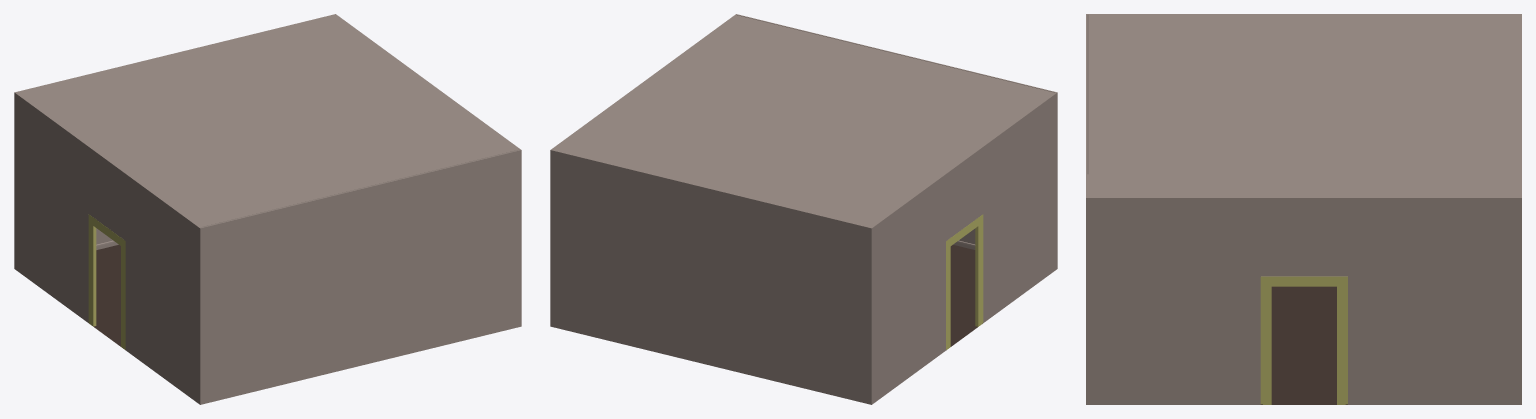
The model's file is Room11_Chasm.fbx.
3 views of the same model, side by side, from view 1: azimuth 30°, elevation 25°; view 2: azimuth 150°, elevation 25°; view 3: azimuth 270°, elevation 25° (orthographic). The views are drawn at different scales.
Visible parts, largest first — view 1: Roof, WallPosZ, WallSlicedPosX, WallPosZ5, WallSlicedPosX12, Floor, DoorFramePosX, WallNegZ; view 2: Roof, WallNegZ, WallSlicedPosX, WallNegZ11, WallSlicedPosX12, Floor, DoorFramePosX, WallPosZ, WallSlicedNegX; view 3: Roof, WallSlicedNegX, WallSlicedNegX11, Floor, DoorFrameNegX, WallSlicedPosX, WallPosZ, WallNegZ.
Boxes of the visible parts, x1,y1,x2,y2 form: Roof: (17, 15, 519, 227); WallPosZ: (199, 150, 521, 364); WallSlicedPosX: (14, 92, 200, 363); WallPosZ5: (199, 286, 521, 404); WallSlicedPosX12: (14, 229, 199, 403); Floor: (89, 245, 120, 346); DoorFramePosX: (88, 214, 125, 349); WallNegZ: (14, 14, 335, 225); Roof: (552, 15, 1054, 227); WallNegZ: (550, 150, 872, 363); WallSlicedPosX: (870, 92, 1056, 364); WallNegZ11: (550, 286, 872, 404); WallSlicedPosX12: (869, 229, 1056, 404); Floor: (946, 245, 982, 350); DoorFramePosX: (946, 214, 983, 349); WallPosZ: (736, 14, 1057, 228); WallSlicedNegX: (550, 14, 736, 286); Roof: (1088, 14, 1520, 197); WallSlicedNegX: (1086, 197, 1521, 357); WallSlicedNegX11: (1086, 357, 1521, 404); Floor: (1260, 286, 1347, 404); DoorFrameNegX: (1260, 276, 1347, 404); WallSlicedPosX: (1087, 14, 1521, 174); WallPosZ: (1086, 14, 1087, 357); WallNegZ: (1520, 14, 1521, 357).
Bounding box in the file's own units: 800 × 420 × 801.
